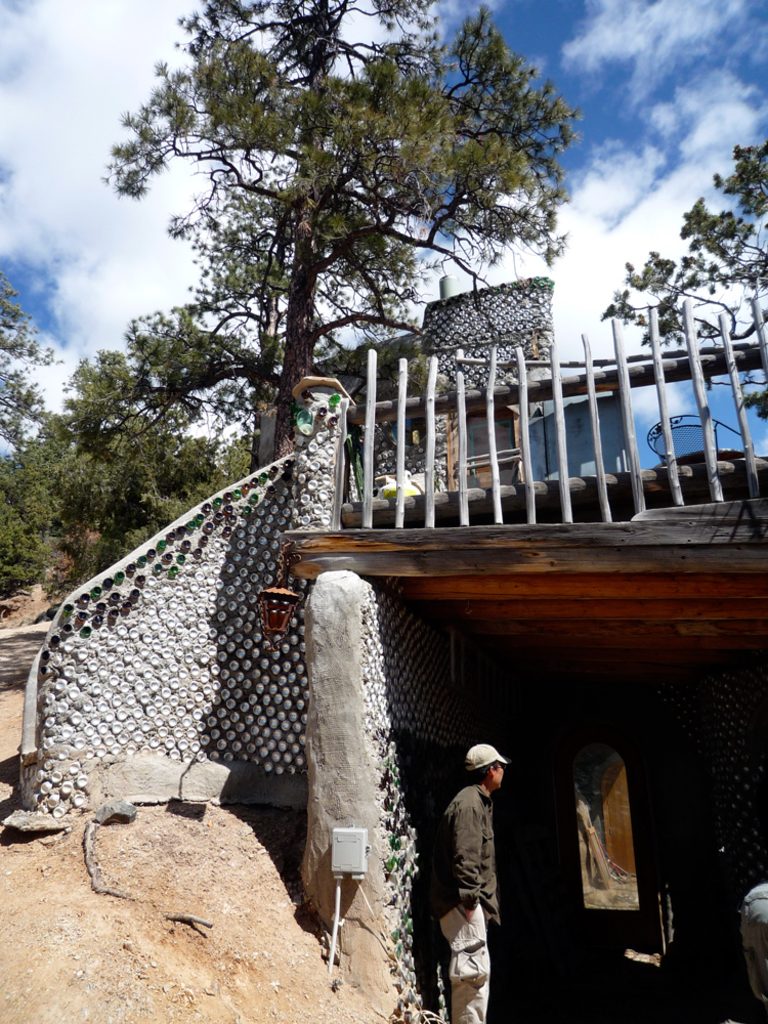Tree: (101, 0, 595, 466), (0, 264, 248, 616), (578, 130, 766, 344)
